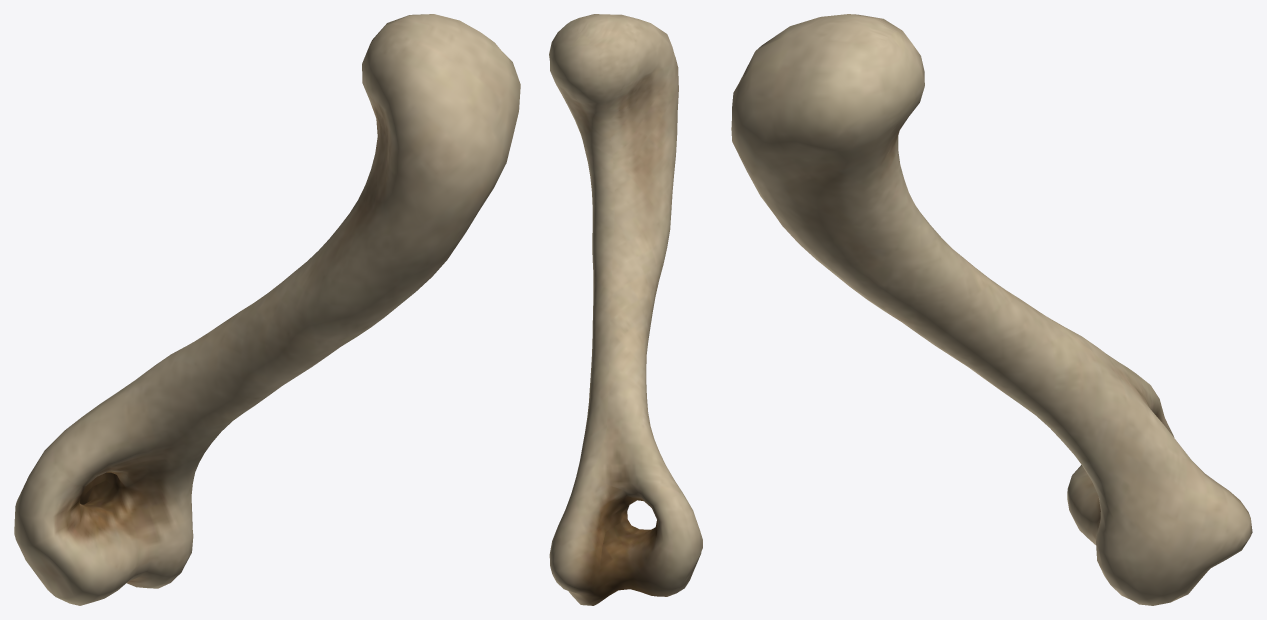
The model's file is Humerus.glb.
The picture shows the model from 3 angles, left to right: view 1: azimuth 30°, elevation 25°; view 2: azimuth 150°, elevation 25°; view 3: azimuth 270°, elevation 25°; orthographic projection. The views are drawn at different scales.
Parts seen in each view (by area): view 1: polySurface6; view 2: polySurface6; view 3: polySurface6.
Boxes of the visible parts, x1,y1,x2,y2 form: polySurface6: [14, 14, 520, 605]; polySurface6: [549, 14, 702, 605]; polySurface6: [731, 14, 1252, 605].
Size of the model in its own units: 60.47 by 109 by 79.54.
Materials: 1 (1 with a texture image).
